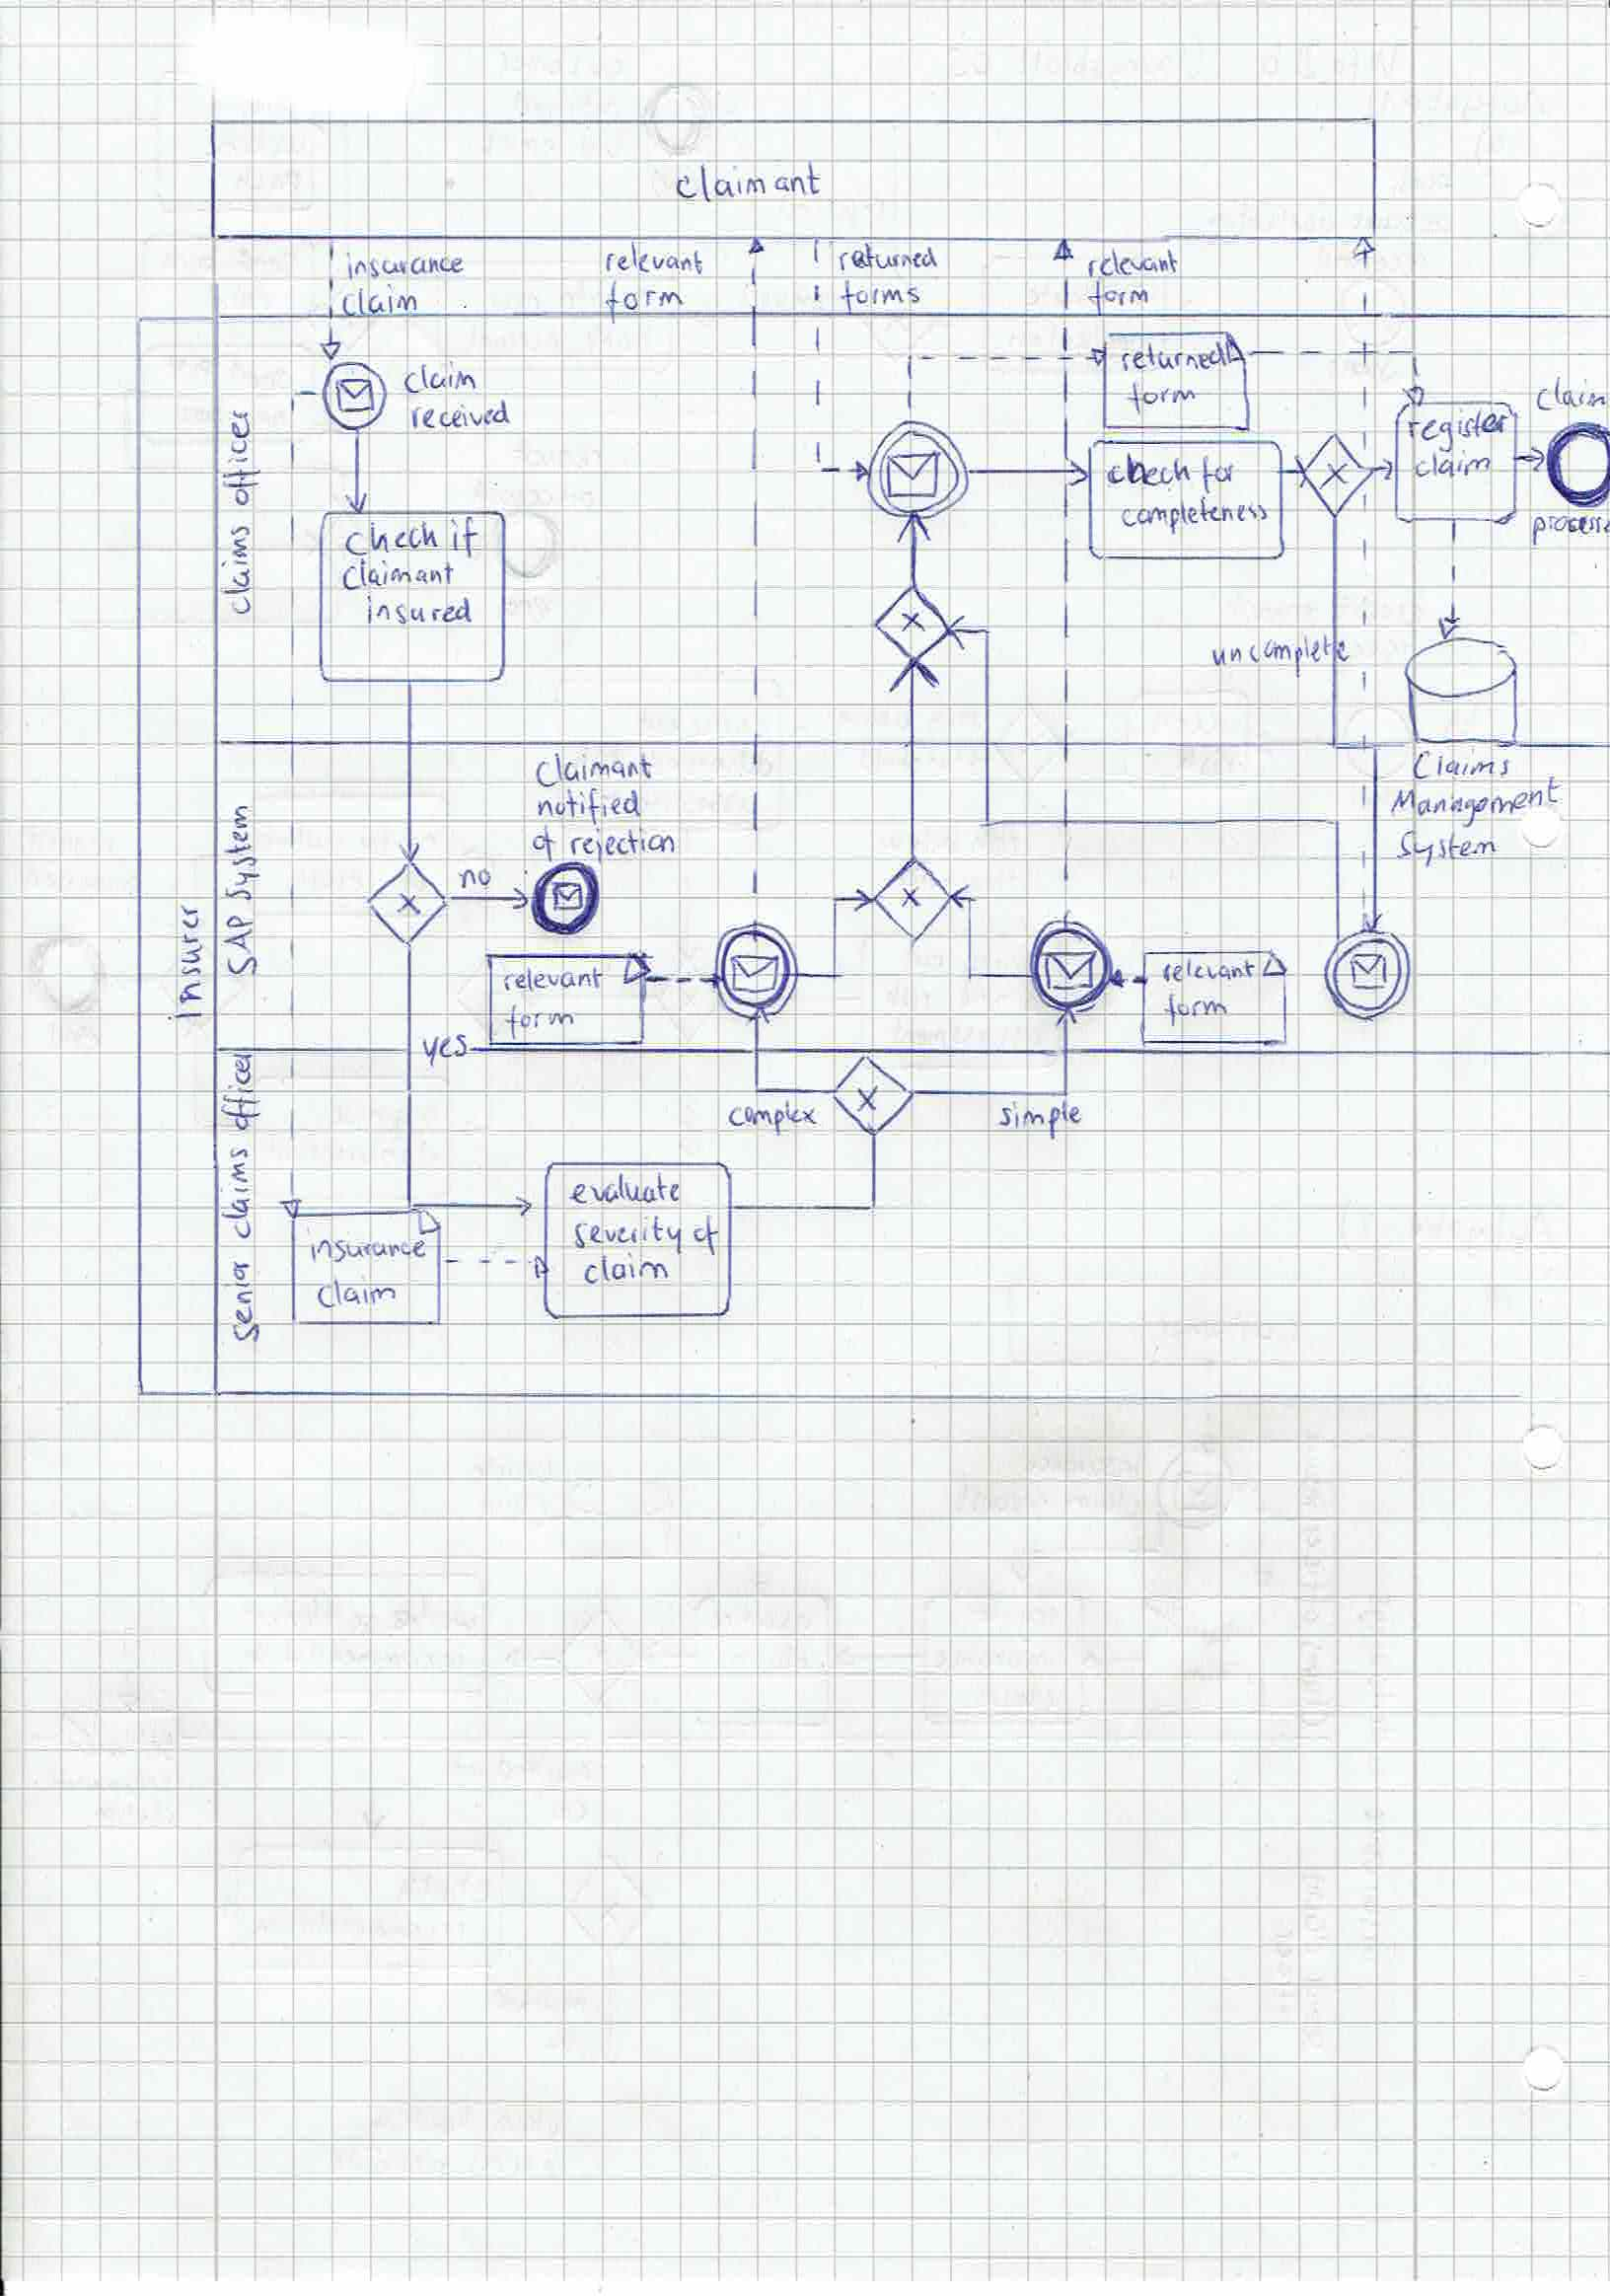Claim: (337, 284, 420, 321), (317, 1277, 399, 1312)
Claimant: (532, 750, 652, 792)
Claims: (1411, 752, 1511, 782)
Insured: (359, 595, 478, 628)
Insurer: (169, 907, 204, 1028)
Management: (1395, 778, 1565, 823)
SAP: (220, 912, 260, 974)
System: (1390, 829, 1505, 867), (222, 803, 260, 905)
Yes: (419, 1028, 478, 1068)
check: (344, 518, 434, 560), (1104, 455, 1188, 492)
claim: (576, 1249, 686, 1289), (1409, 447, 1502, 487), (1526, 377, 1608, 420), (401, 363, 478, 396)
claimant: (672, 162, 822, 208), (342, 558, 460, 593)
claims: (220, 1143, 262, 1240), (222, 515, 258, 618)
completeness: (1118, 497, 1275, 536)
complex: (726, 1097, 823, 1134)
evaluate: (569, 1174, 687, 1211)
for: (1193, 454, 1237, 492)
form: (600, 283, 687, 318), (501, 1003, 581, 1040), (1123, 379, 1200, 415), (1158, 989, 1231, 1026), (1087, 281, 1153, 311)
forms: (837, 279, 923, 312)
if: (441, 516, 485, 558)
insurance: (337, 249, 466, 288), (298, 1232, 429, 1265)
no: (464, 869, 494, 890)
notified: (537, 789, 647, 825)
of: (687, 1218, 726, 1253), (529, 829, 558, 862)
officer: (222, 412, 258, 508), (220, 1052, 262, 1136)
process: (1532, 511, 1607, 539)
received: (405, 398, 513, 434)
register: (1399, 410, 1511, 445)
rejection: (562, 827, 677, 862)
relevant: (600, 246, 706, 281), (1158, 954, 1251, 993), (1080, 249, 1179, 283), (497, 967, 607, 996)
returned: (1115, 338, 1231, 375), (830, 243, 937, 276)
senior: (223, 1246, 262, 1343)
severity: (567, 1218, 682, 1254)
simple: (994, 1097, 1083, 1136)
uncomplete: (1205, 633, 1359, 670)
